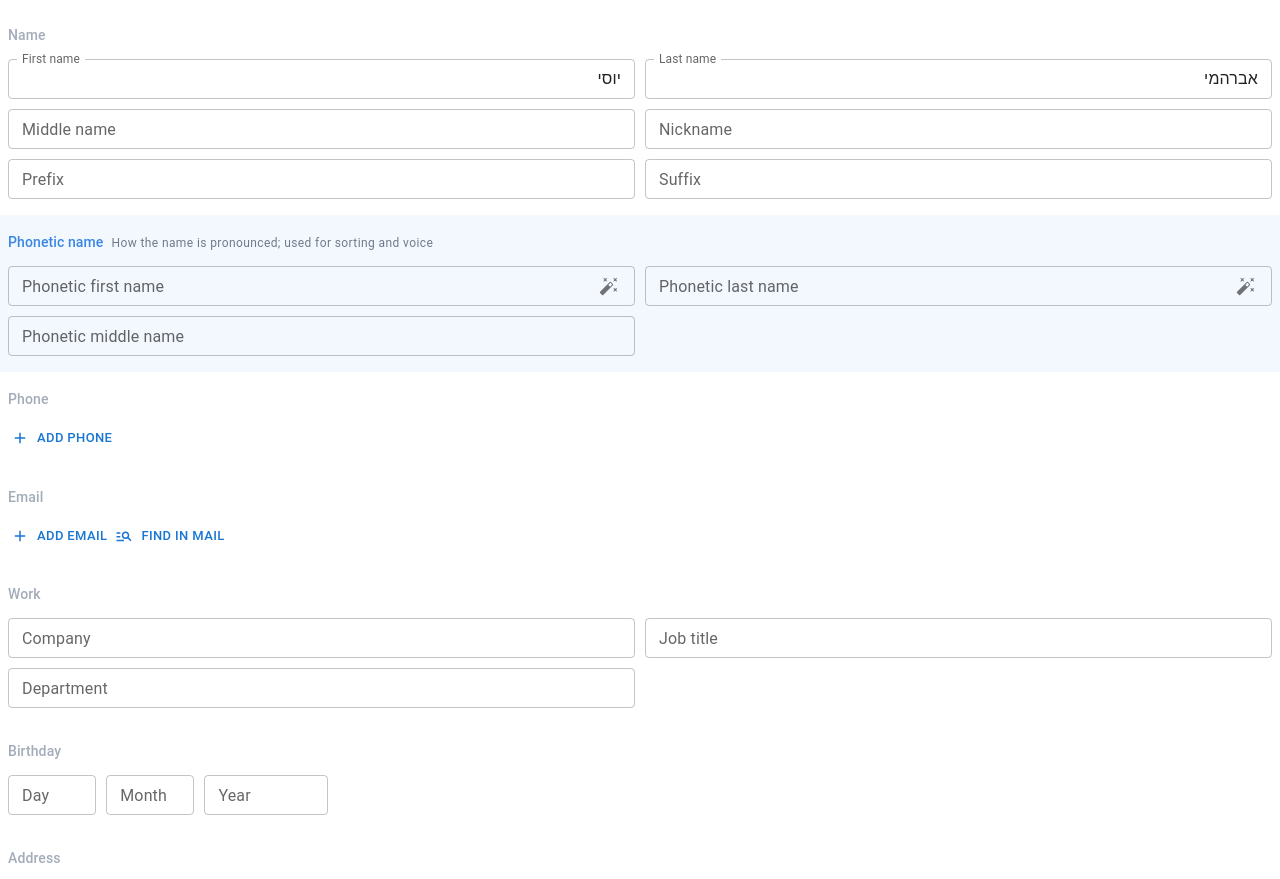
contact card auto-fill (FR-77, FR-78) › fills the phonetic name from the contacts and Gemini, only the empty Hebrew parts
Step 1. Click the button named "Fill from the Hebrew name" in the row of "Phonetic first name" → point(609, 286), box [594,271,624,301]
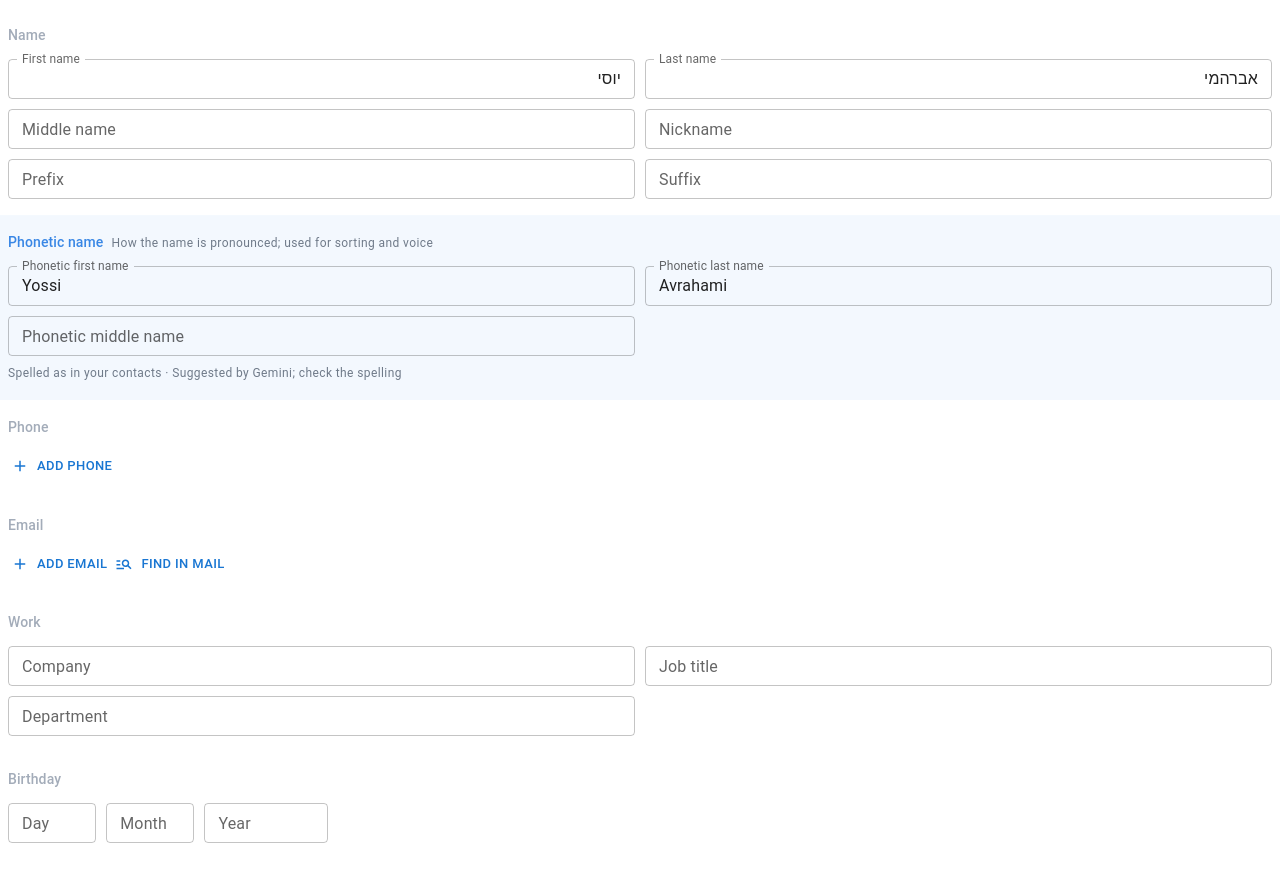
Now the text "Spelled as in your contacts · Suggested by Gemini" is shown, box [8,366,402,380]
